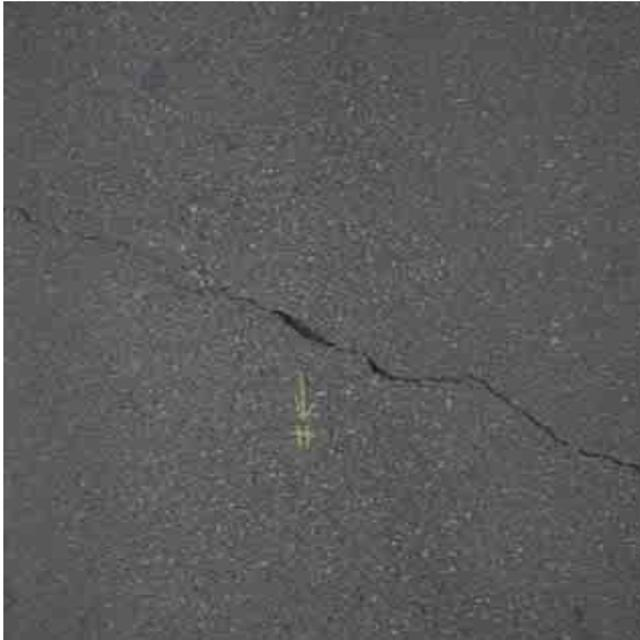crack: (14, 203, 640, 483)
